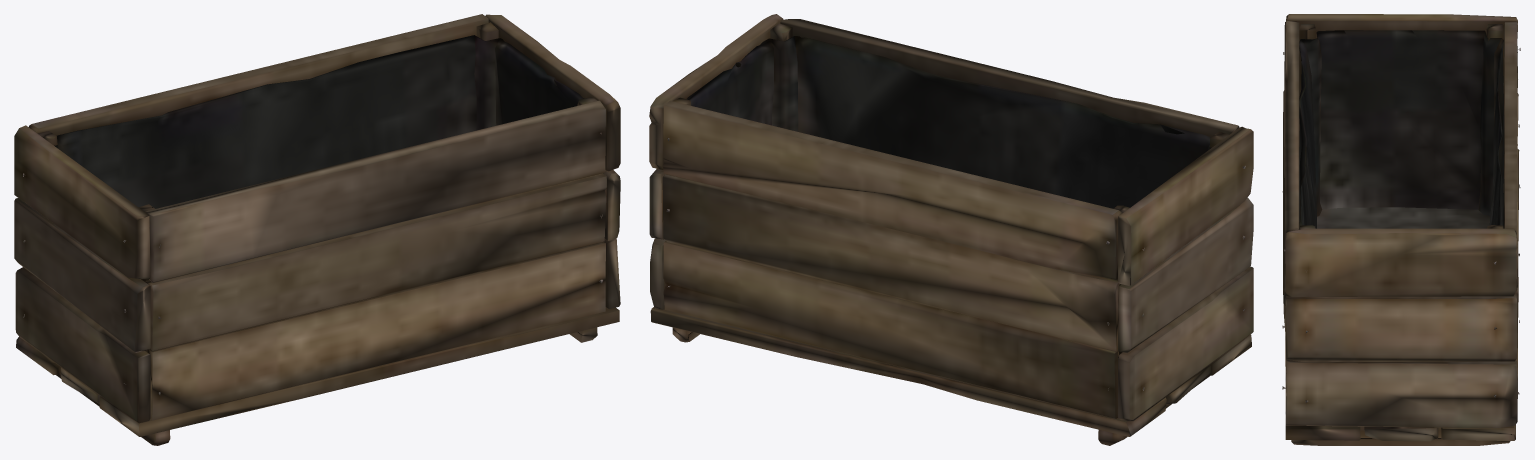
Rendered from planter_box_01.glb.
3 renders of one model, left to right at view 1: azimuth 30°, elevation 25°; view 2: azimuth 150°, elevation 25°; view 3: azimuth 270°, elevation 25°, orthographic. The views are drawn at different scales.
Parts seen in each view (by area): view 1: planter_box_01; view 2: planter_box_01; view 3: planter_box_01.
Part boxes in pixels (left/top/right/bottom): planter_box_01: left=14, top=14, right=620, bottom=445; planter_box_01: left=649, top=14, right=1253, bottom=445; planter_box_01: left=1282, top=14, right=1520, bottom=445.
Bounding box in the file's own units: 0.9126 × 0.425 × 0.4135.
Materials: 1 (1 with a texture image).
